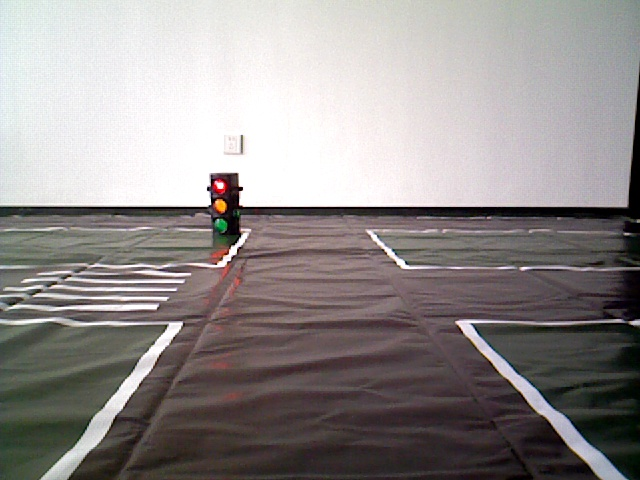red: (211, 176, 236, 237)
